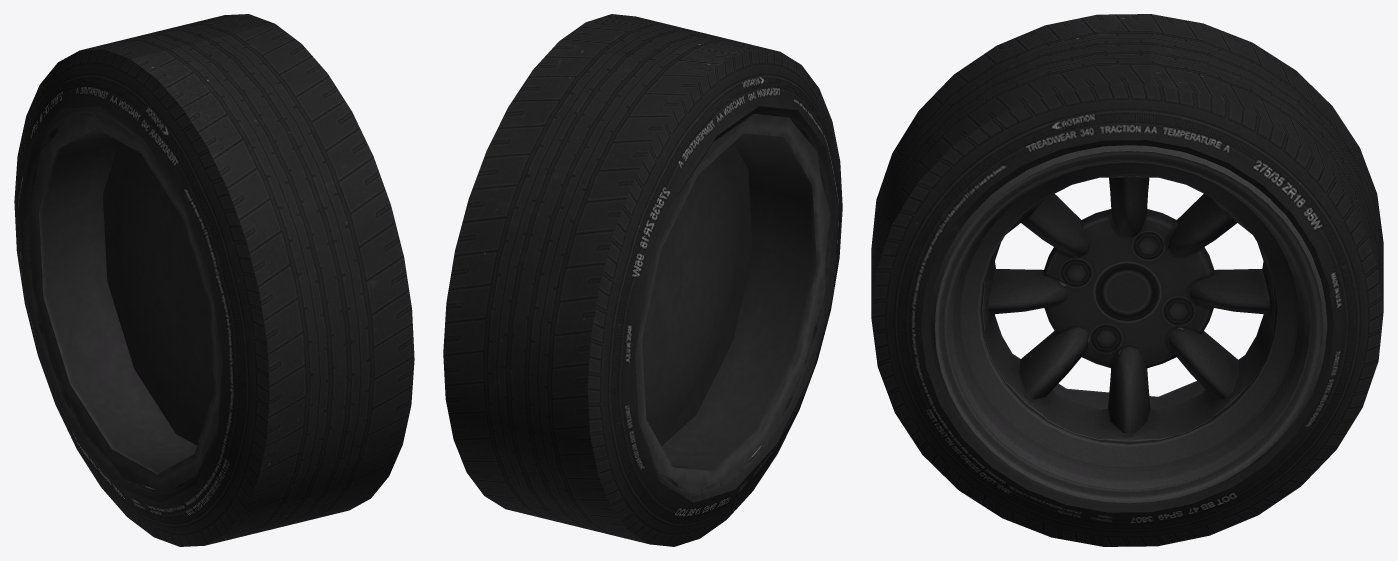
The model's file is RMCarDemoWheel.FBX.
3 views of the same model, side by side, from view 1: azimuth 30°, elevation 25°; view 2: azimuth 150°, elevation 25°; view 3: azimuth 270°, elevation 25° (orthographic).
Visible parts, largest first — view 1: RMCDemo_Wheel_LOD0; view 2: RMCDemo_Wheel_LOD0; view 3: RMCDemo_Wheel_LOD0.
Boxes of the visible parts, <box> form: RMCDemo_Wheel_LOD0: <box>14,14,414,546</box>; RMCDemo_Wheel_LOD0: <box>443,14,842,546</box>; RMCDemo_Wheel_LOD0: <box>871,14,1383,546</box>.
Size of what is drawn, in the model's own units: 24.74 by 57.9 by 57.67.
